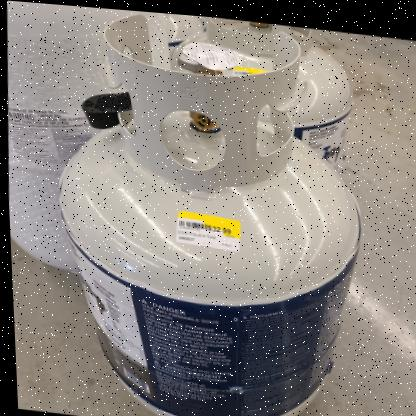gas-tank: (42, 2, 383, 415), (0, 0, 182, 290), (186, 12, 362, 185)
